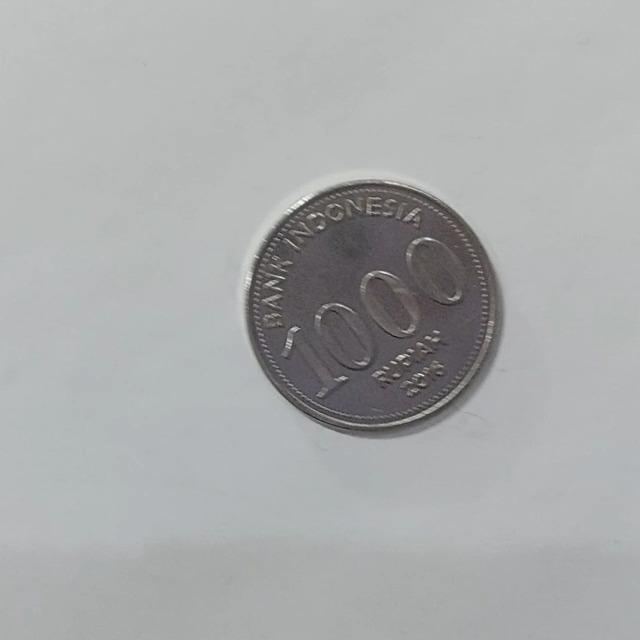Rp100: (241, 172, 500, 435)
